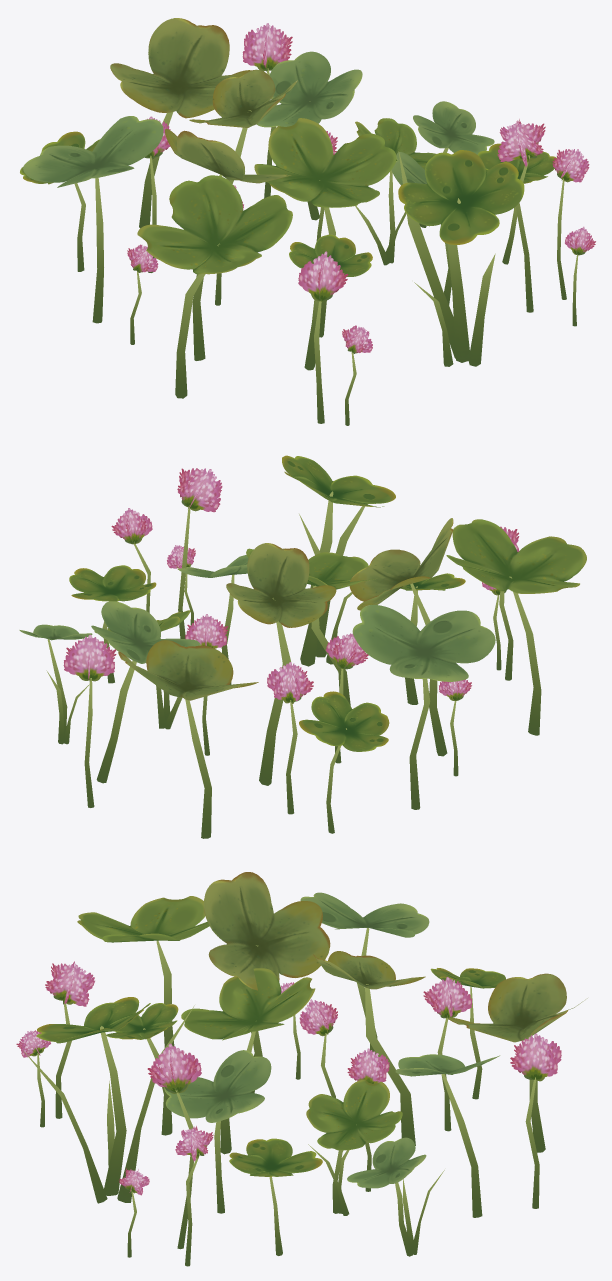
File: cloverFlower_3.fbx
3 views of the same model, one above another, from view 1: azimuth 30°, elevation 25°; view 2: azimuth 150°, elevation 25°; view 3: azimuth 270°, elevation 25° (orthographic). The views are drawn at different scales.
Parts seen in each view (by area): view 1: cloverFlower_3_low; view 2: cloverFlower_3_low; view 3: cloverFlower_3_low.
Part boxes in pixels (box(x1,y1,x2,y2)): cloverFlower_3_low: box(20, 18, 595, 425); cloverFlower_3_low: box(19, 455, 586, 838); cloverFlower_3_low: box(16, 872, 587, 1266).
Size of the model in its own units: 107 by 51.04 by 115.
